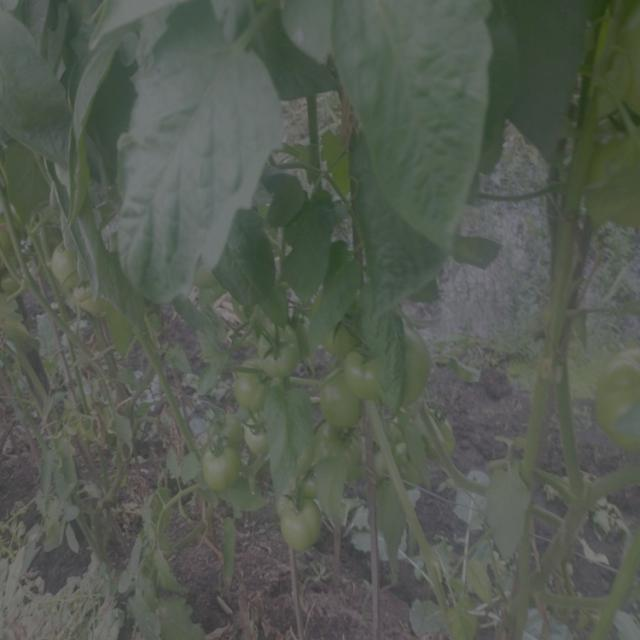tomato: (592, 344, 640, 453), (395, 319, 441, 407), (254, 315, 306, 381), (282, 489, 330, 558), (317, 378, 366, 439), (47, 237, 91, 296), (202, 438, 239, 497), (230, 365, 274, 414), (345, 348, 385, 396), (237, 416, 277, 459), (331, 314, 359, 354)
